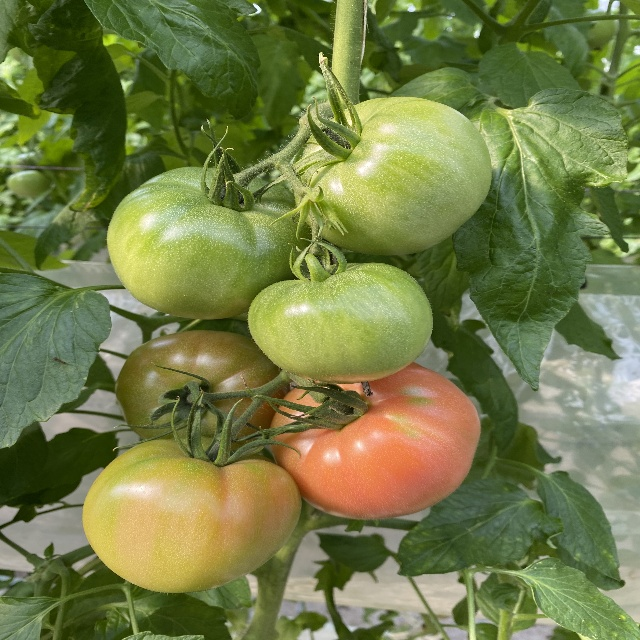b_green: (106, 166, 325, 320), (291, 96, 493, 255), (247, 263, 432, 384)
b_half_ripened: (82, 438, 305, 593), (266, 363, 481, 521), (116, 330, 293, 452)
